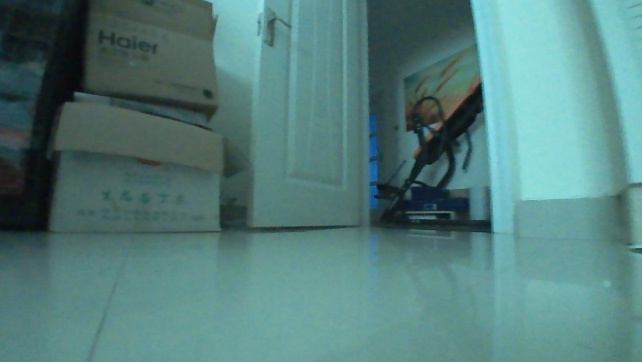door_anno: (240, 0, 376, 233)
